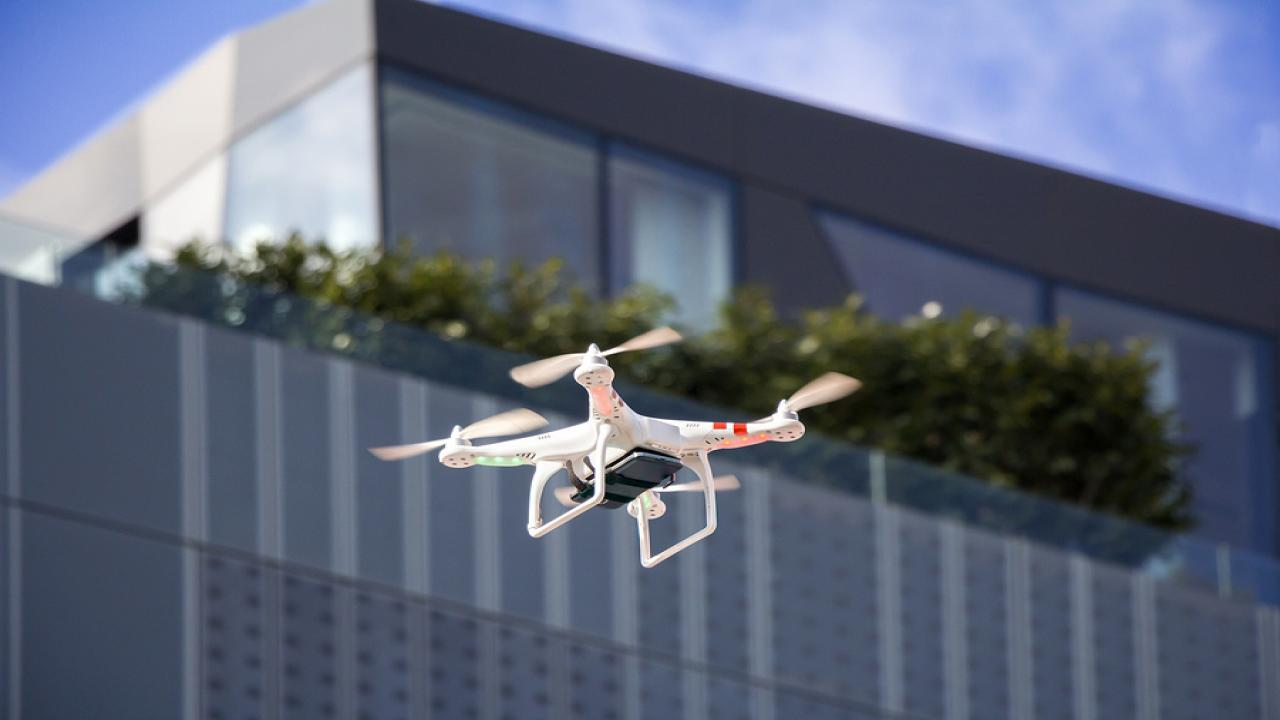Drone: (351, 312, 881, 582)
